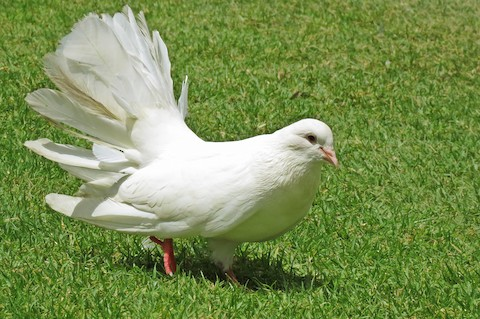pigeon: (20, 3, 340, 295)
